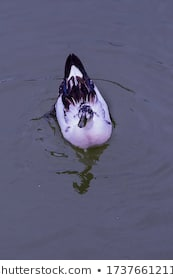duck: (39, 43, 131, 168)
